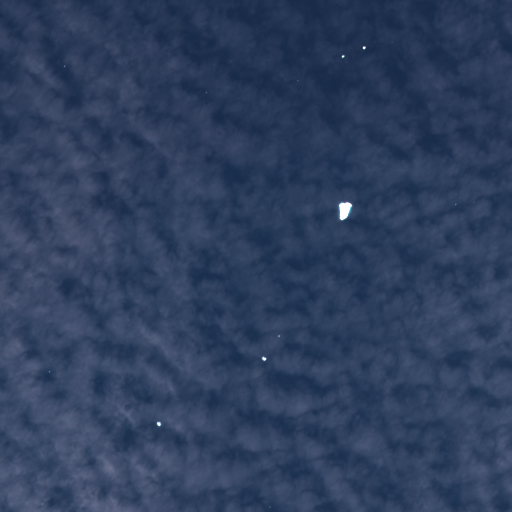Iceberg: (339, 201, 352, 220), (156, 421, 161, 426), (261, 356, 266, 360), (341, 54, 345, 58), (362, 46, 365, 49), (63, 65, 65, 67), (48, 370, 50, 372), (205, 91, 206, 93), (455, 203, 456, 205), (278, 335, 279, 337), (297, 80, 298, 81)
